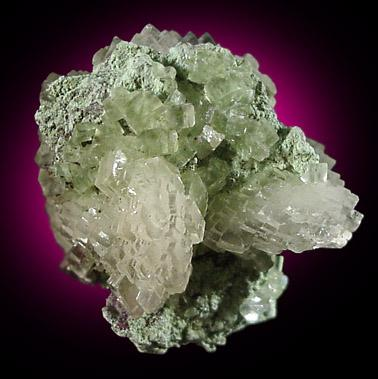calcite: (39, 44, 364, 319)
